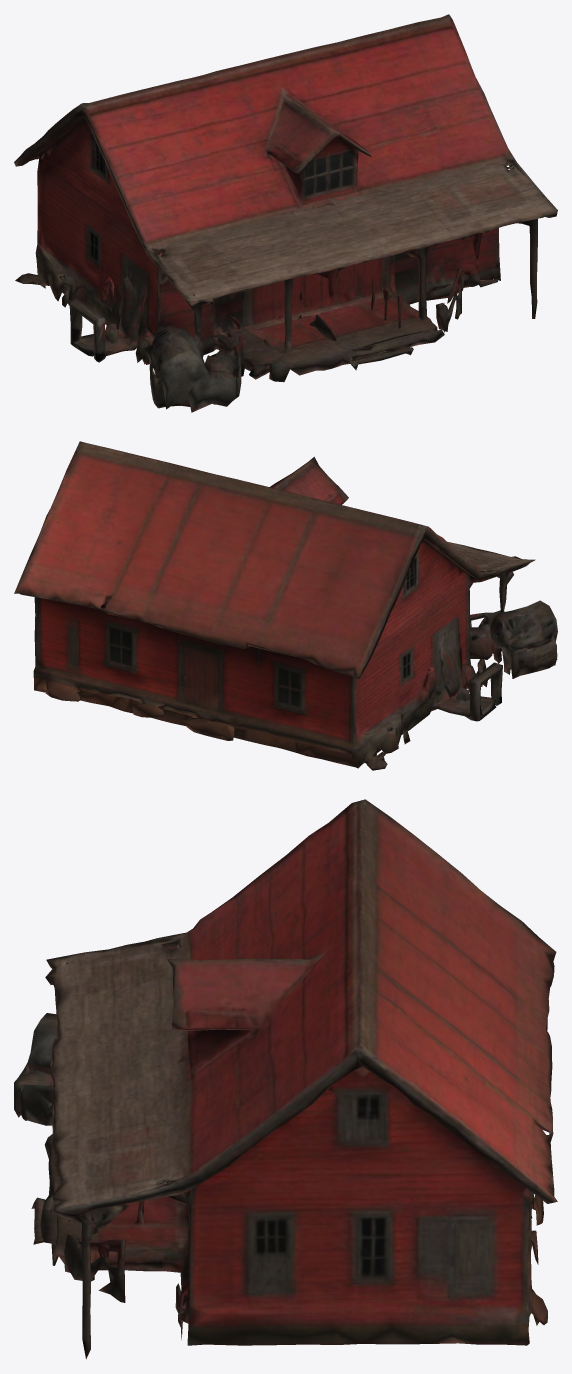
File: old_farm_house_3d_mo_0222215044_texture.fbx
3 views of the same model, one above another, from view 1: azimuth 30°, elevation 25°; view 2: azimuth 150°, elevation 25°; view 3: azimuth 270°, elevation 25° (orthographic). The views are drawn at different scales.
Visible parts, largest first — view 1: Mesh1; view 2: Mesh1; view 3: Mesh1.
Boxes of the visible parts, x1=… form: Mesh1: x1=14, y1=14, x2=557, y2=412; Mesh1: x1=14, y1=441, x2=557, y2=770; Mesh1: x1=14, y1=799, x2=557, y2=1359.
Size of the model in its own units: 199 by 109 by 167.
Materials: 1 (1 with a texture image).
